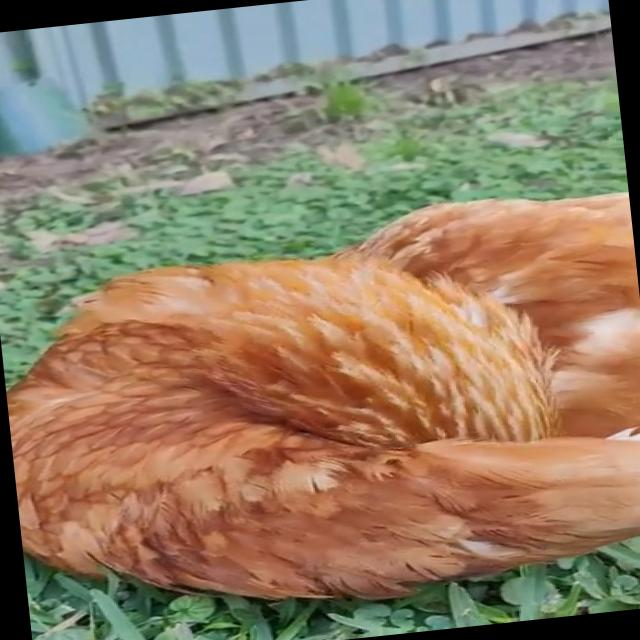self preening: (0, 175, 640, 640)
